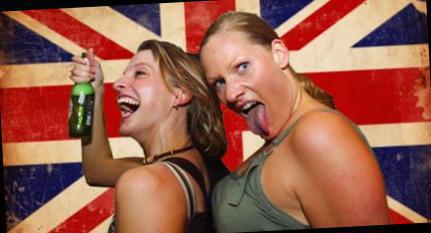Drunk: (201, 38, 289, 137), (111, 46, 167, 135)
